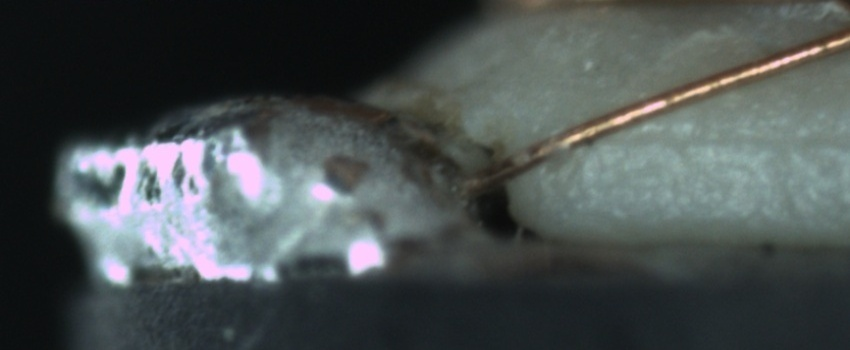DL: (609, 102, 844, 174)
